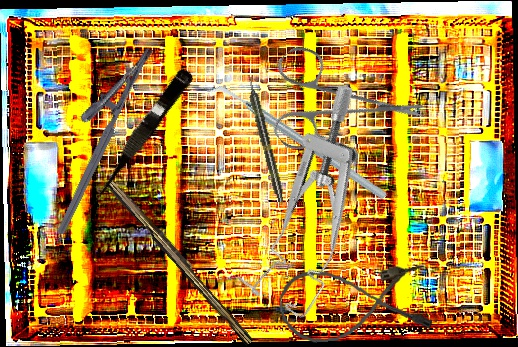Cannula: (277, 261, 433, 346)
Chopper: (205, 37, 389, 247)
Handpiece: (244, 75, 287, 204)
Iris Scissors: (240, 7, 429, 196)
Micro Scissor: (85, 63, 196, 207)
Needle Holder: (30, 34, 155, 236)
Scalpel Handle: (102, 175, 259, 347)
Speculum: (217, 78, 423, 327)
